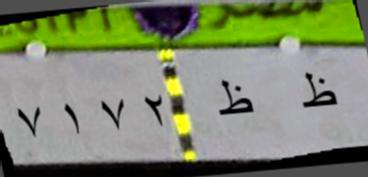1: (61, 104, 83, 144)
2: (144, 91, 168, 130)
7: (97, 93, 128, 134), (16, 100, 46, 141)
Thaa: (212, 74, 256, 126), (296, 66, 338, 118)
